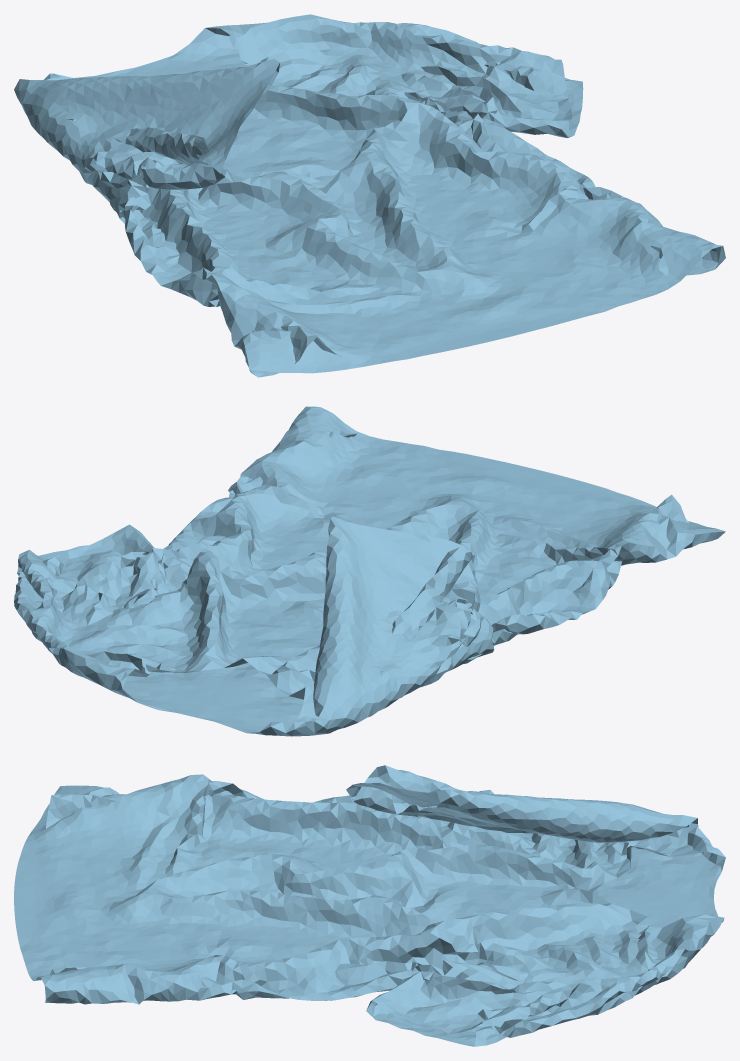
File: frame_18.glb
The picture shows the model from 3 angles, top to bottom: view 1: azimuth 30°, elevation 25°; view 2: azimuth 150°, elevation 25°; view 3: azimuth 270°, elevation 25°; orthographic projection. The views are drawn at different scales.
Visible parts, largest first — view 1: frame_18.obj; view 2: frame_18.obj; view 3: frame_18.obj.
Boxes of the visible parts, <box> form: frame_18.obj: <box>14,14,725,377</box>; frame_18.obj: <box>14,406,725,736</box>; frame_18.obj: <box>14,765,725,1046</box>.
Size of the model in its own units: 1.47 by 0.3066 by 1.73.
